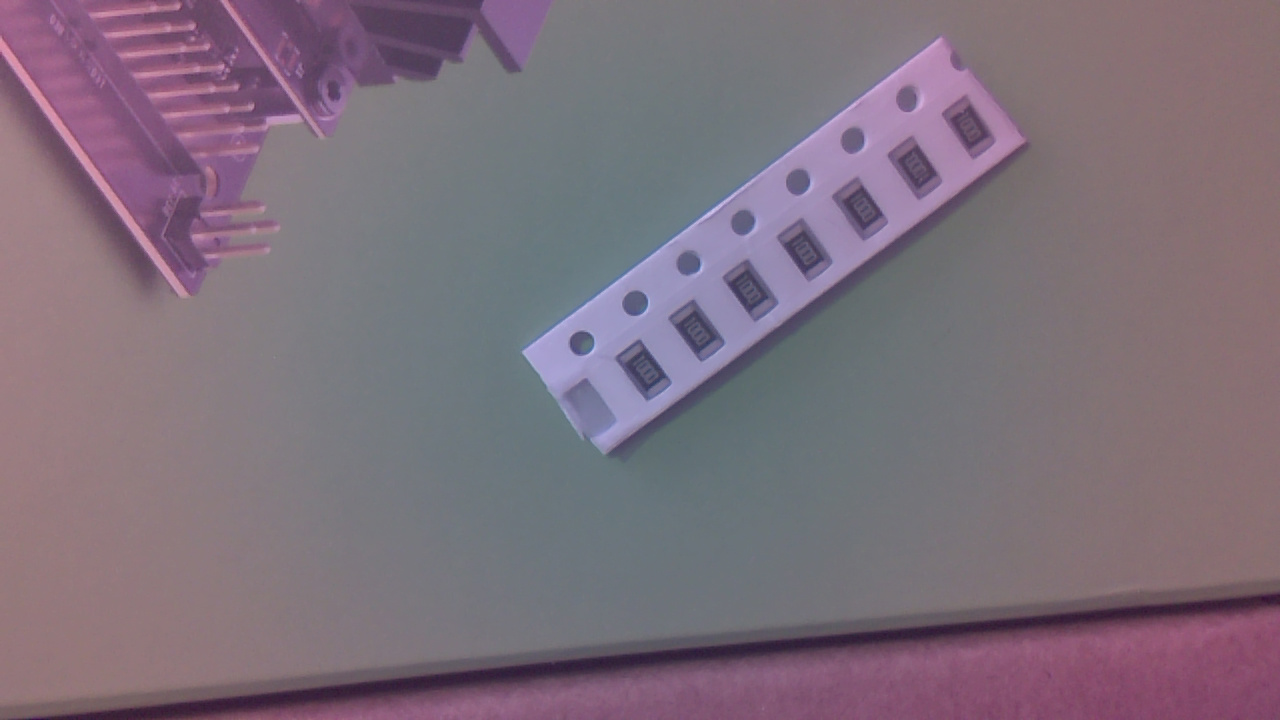Resistor: (835, 182, 895, 247), (780, 223, 841, 286), (945, 102, 1003, 166), (673, 304, 731, 366), (620, 344, 677, 406), (728, 263, 785, 325), (892, 140, 947, 204)
